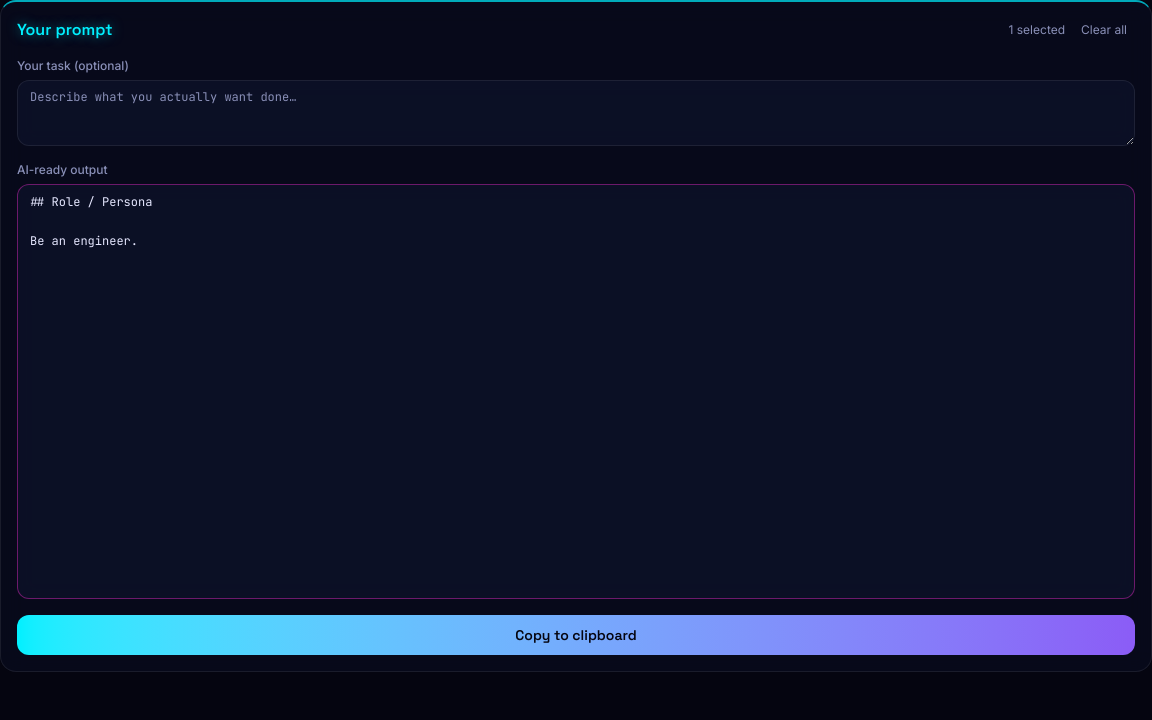
OutputPanel copy › confirms the copy by relabelling the button
This screenshot has width=1152, height=720.
Click the button "Copy to clipboard" at (576, 635), box top-left (17, 615), bottom-right (1135, 655)
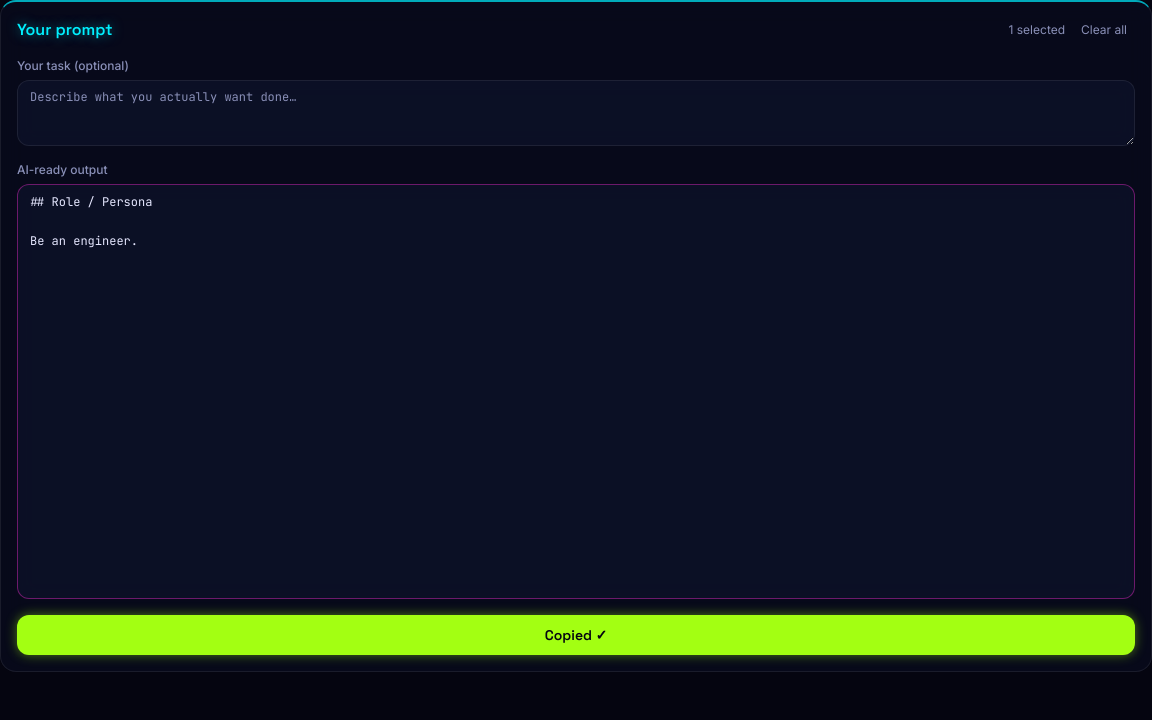
Expected: the button "Copied ✓" is shown, top-left (17, 615), bottom-right (1135, 655)
